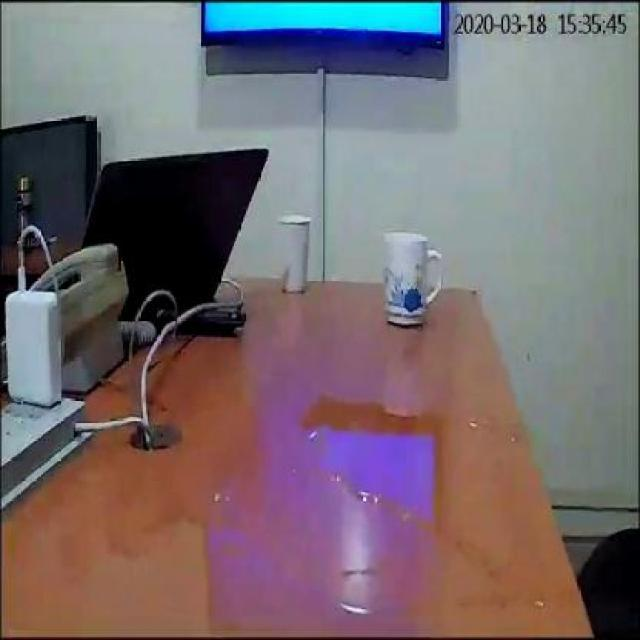spill: (305, 390, 573, 612)
